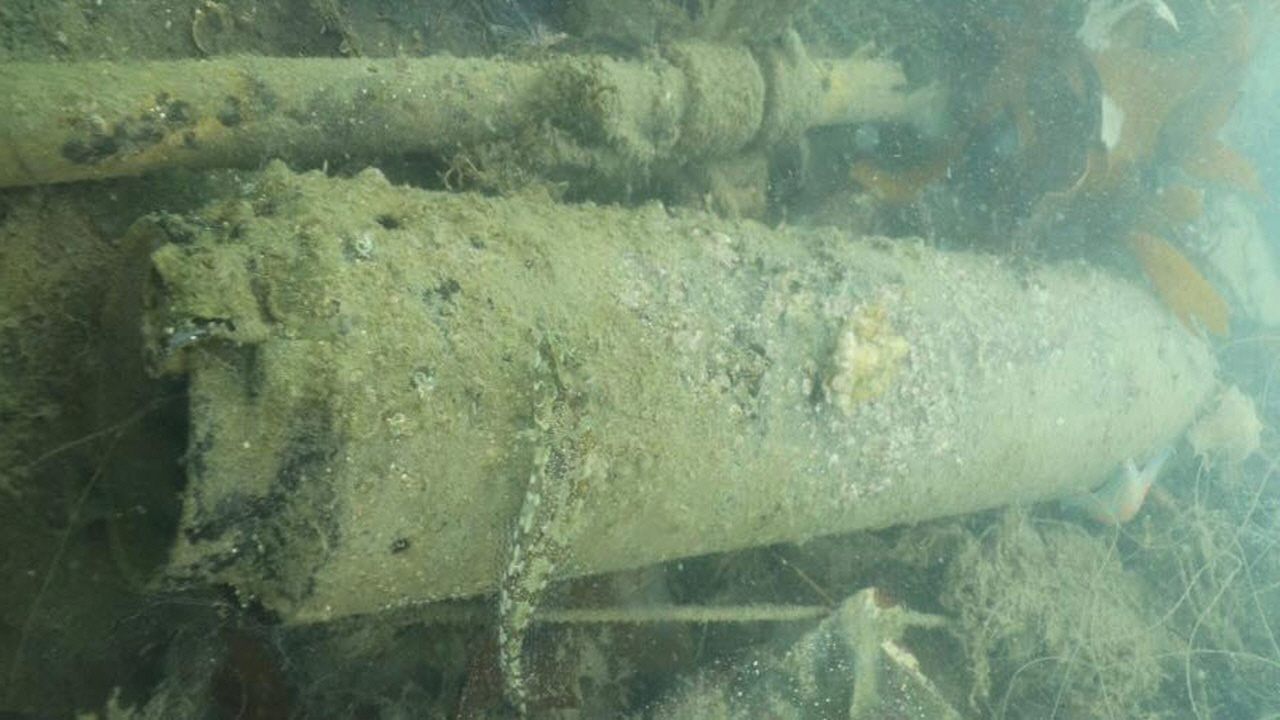eel fish trap: (114, 165, 1213, 624)
